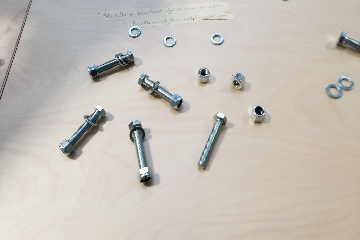Bolt: (193, 109, 233, 173)
FalseAssembly: (53, 103, 112, 161), (123, 118, 160, 185)
FinishedAssembly: (139, 74, 185, 111), (85, 49, 138, 81)
Nut: (248, 102, 270, 127), (228, 70, 246, 91), (194, 66, 211, 86)
Washer: (325, 82, 344, 100), (337, 74, 356, 91), (127, 24, 143, 39), (162, 34, 178, 49), (209, 31, 225, 46)
